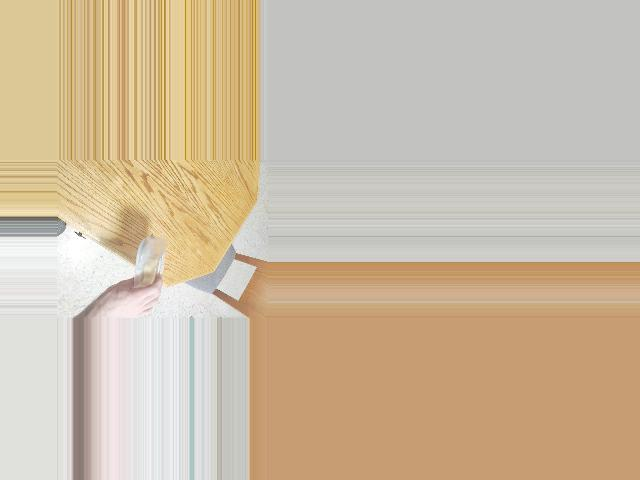cheese: (109, 236, 177, 303)
